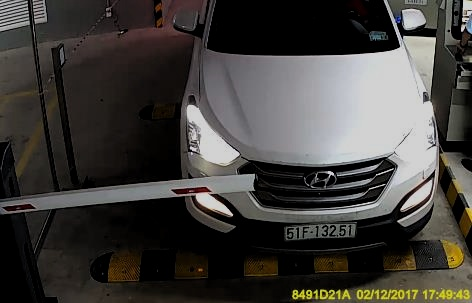plate: (283, 217, 362, 243)
